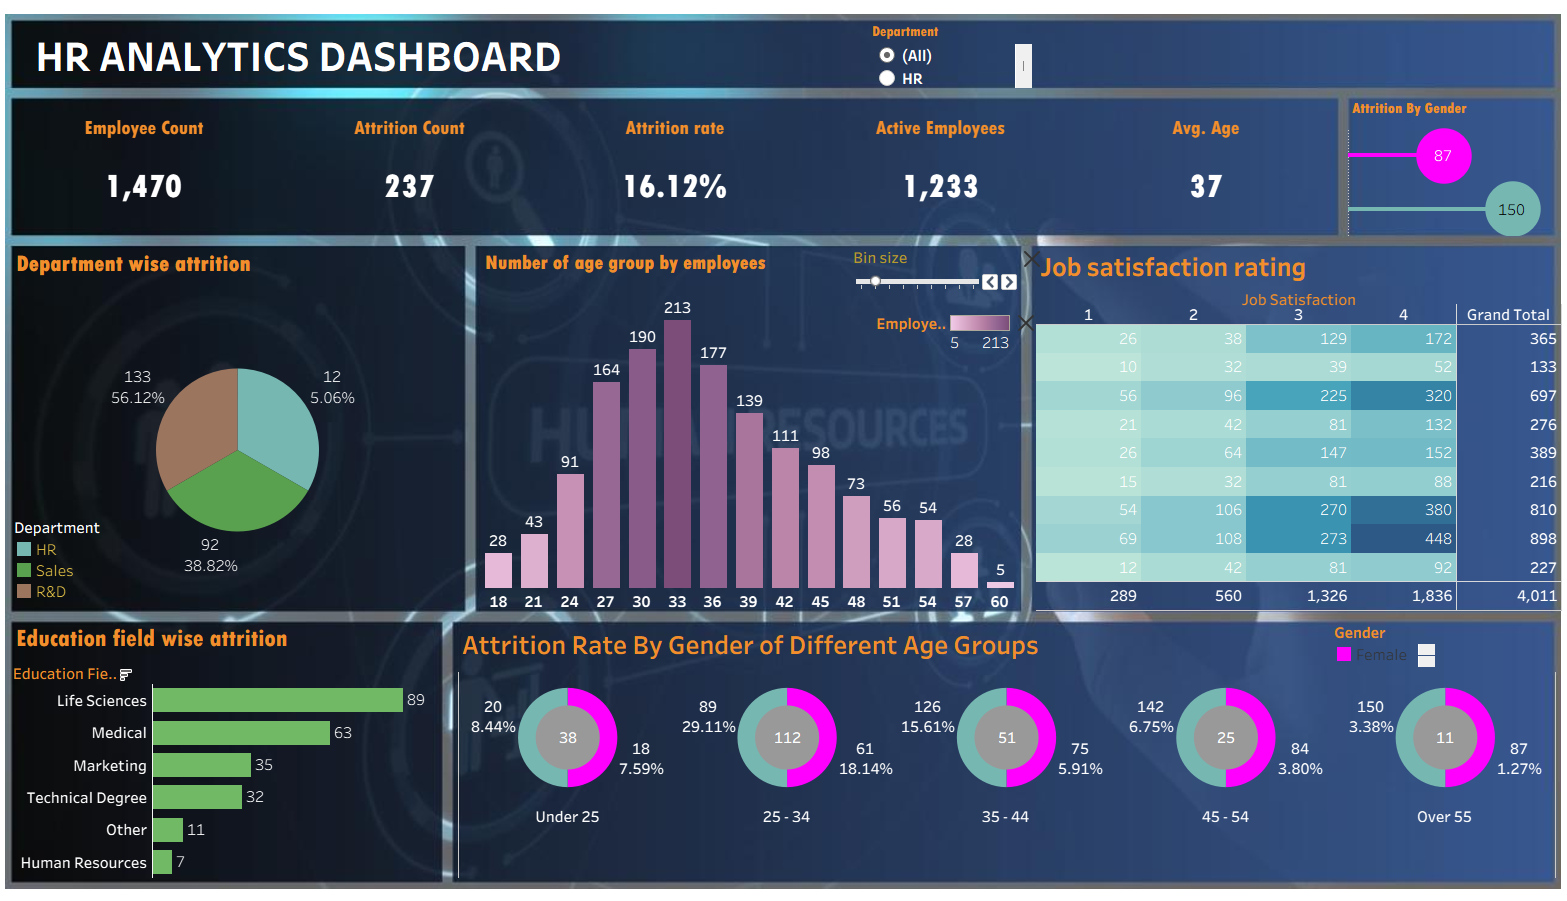

The page's visual inventory and layout, read from the dashboard file:
{"tool":"tableau","page":{"name":"Dashboard 1","canvas":[1580,900],"ordinal":0},"visuals":[{"type":"image","param":"C:/Users/jayan/Downloads/HR background.pptx.jpg","box":[8,8,1564,884]},{"type":"filter","title":"Department wise attrition","param":"[federated.1paxqg60tvmrdt15ixfnu1aadxl5].[none:Department:nk]","box":[879,21,160,65]},{"type":"text","box":[39,26,672,54]},{"type":"worksheet","title":"Attrition By Gender","mark":"Bar","rows":["Gender"],"cols":["Calculation_1422245621919744","Calculation_1422245621919744"],"box":[1355,94,201,140]},{"type":"worksheet","title":"Sheet 1","mark":"Automatic","box":[18,97,1328,135]},{"type":"worksheet","title":"Job satisfaction rating","mark":"Square","rows":["Job Role"],"cols":["Job Satisfaction"],"box":[1043,243,526,366]},{"type":"worksheet","title":"Department wise attrition","mark":"Pie","box":[19,245,451,366]},{"type":"parameter","param":"[Parameters].[Parameter 1]","box":[860,245,167,50]},{"type":"dashboard-object","box":[1027,245,24,24]},{"type":"worksheet","title":"Number of age group by employees","mark":"Automatic","rows":["Employee Count"],"cols":["Age (bin)"],"box":[488,246,537,365]},{"type":"legend","title":"Number of age group by employees","param":"[federated.1paxqg60tvmrdt15ixfnu1aadxl5].[sum:Employee Count:qk]","box":[881,309,140,44]},{"type":"dashboard-object","box":[1021,309,24,24]},{"type":"legend","title":"Department wise attrition","param":"[federated.1paxqg60tvmrdt15ixfnu1aadxl5].[none:Department:nk]","box":[21,515,140,93]},{"type":"worksheet","title":"Education field wise attrition","mark":"Automatic","rows":["Education Field"],"cols":["Calculation_1422245621919744"],"box":[19,618,431,258]},{"type":"legend","title":"Attrition By Gender","param":"[federated.1paxqg60tvmrdt15ixfnu1aadxl5].[none:Gender:nk]","box":[1341,620,103,45]},{"type":"worksheet","title":"Attrition Rate By Gender of Different Age Groups","mark":"Pie","rows":["Calculation_1422245706014725","Calculation_1422245706014725"],"cols":["CF_age band"],"box":[465,621,1098,256]}]}

Visuals, with their boxes in screenshot pixels (x1, y1, x2, y2), scaled from the page's 1580x900 canvas onto the 1567x901 screenshot:
image: <box>8,8,1559,893</box>
"Department wise attrition" filter: <box>872,21,1030,86</box>
text: <box>39,26,705,80</box>
"Attrition By Gender" worksheet (Bar marks): <box>1344,94,1543,234</box>
"Sheet 1" worksheet: <box>18,97,1335,232</box>
"Job satisfaction rating" worksheet (Square marks): <box>1034,243,1556,610</box>
"Department wise attrition" worksheet (Pie marks): <box>19,245,466,612</box>
parameter: <box>853,245,1019,295</box>
dashboard-object: <box>1019,245,1042,269</box>
"Number of age group by employees" worksheet: <box>484,246,1017,612</box>
"Number of age group by employees" legend: <box>874,309,1013,353</box>
dashboard-object: <box>1013,309,1036,333</box>
"Department wise attrition" legend: <box>21,516,160,609</box>
"Education field wise attrition" worksheet: <box>19,619,446,877</box>
"Attrition By Gender" legend: <box>1330,621,1432,666</box>
"Attrition Rate By Gender of Different Age Groups" worksheet (Pie marks): <box>461,622,1550,878</box>
